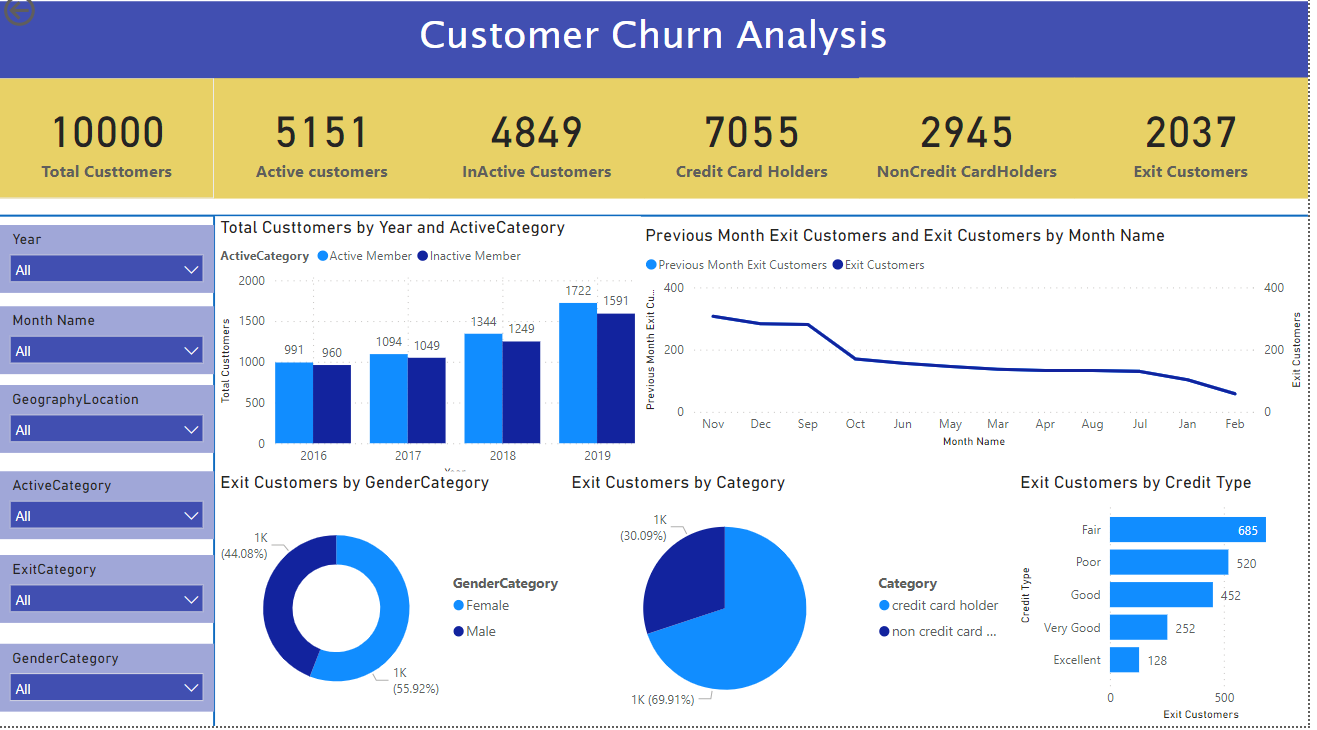

This screenshot's page, from the dashboard's own definition file:
{"tool":"powerbi","page":{"name":"Page 1","canvas":[1280,720],"ordinal":0},"visuals":[{"type":"card","fields":{"Values":["Calculations.Total Custtomers"]},"box":[0,85.6,210.3,118.6],"z":0},{"type":"card","fields":{"Values":["Calculations.Active customers"]},"box":[210.3,85.6,210.3,118.6],"z":1000},{"type":"card","fields":{"Values":["Calculations.InActive Customers"]},"box":[420.5,85.6,210.3,118.6],"z":2000},{"type":"card","fields":{"Values":["Calculations.Credit Card Holders"]},"box":[630.8,85.6,210.3,118.6],"z":3000},{"type":"textbox","box":[0,452,281,150],"z":4000},{"type":"textbox","box":[0,11,1280.6,75.4],"z":5000},{"type":"card","fields":{"Values":["Calculations.NonCredit CardHolders"]},"box":[841,85.6,210.3,118.6],"z":6000},{"type":"card","fields":{"Values":["Calculations.Exit Customers"]},"box":[1051.3,85.6,228.6,118.6],"z":7000},{"type":"shape","box":[0,145.5,1279.9,150.4],"z":8000},{"type":"shape","box":[0,221.3,420.5,498.7],"z":9000},{"type":"slicer","fields":{"Values":["Bank_Churn.Year"]},"box":[0,229.8,210.3,66],"z":10000},{"type":"slicer","fields":{"Values":["DateMaster.Month Name"]},"box":[0,309.3,210.3,66],"z":11000},{"type":"slicer","fields":{"Values":["Geography.GeographyLocation"]},"box":[0,386.3,210.3,66],"z":12000},{"type":"slicer","fields":{"Values":["ActiveCustomer.ActiveCategory"]},"box":[0,470.6,210.3,66],"z":13000},{"type":"slicer","fields":{"Values":["ExitCustomer.ExitCategory"]},"box":[0,552.5,210.3,66],"z":14000},{"type":"slicer","fields":{"Values":["Gender.GenderCategory"]},"box":[0,639.3,210.3,66],"z":15000},{"type":"clusteredColumnChart","fields":{"Category":["Bank_Churn.Year"],"Y":["Calculations.Total Custtomers"],"Series":["ActiveCustomer.ActiveCategory"]},"box":[211.5,221.3,415.6,261.8],"z":16000},{"type":"actionButton","box":[0,0,100,40],"z":17000},{"type":"lineChart","fields":{"Y":["Calculations.Previous Month Exit Customers"],"Y2":["Calculations.Exit Customers"],"Category":["Bank_Churn.Month Name"]},"box":[627.1,229.8,652.8,222.5],"z":18000},{"type":"donutChart","fields":{"Category":["Gender.GenderCategory"],"Y":["Calculations.Exit Customers"]},"box":[211.5,470.6,347.2,249.4],"z":19000},{"type":"barChart","fields":{"Category":["Bank_Churn.Credit Type"],"Y":["Calculations.Exit Customers"]},"box":[993.8,470.6,286,249.4],"z":20000},{"type":"pieChart","fields":{"Category":["CreditCard.Category"],"Y":["Calculations.Exit Customers"]},"box":[555,470.6,438.8,249.4],"z":21000}]}

Visuals, with their boxes in screenshot pixels (x1, y1, x2, y2), scaled from the page's 1280x720 canvas onto the 1317x730 screenshot:
card - Calculations.Total Custtomers: BBox(0, 87, 216, 207)
card - Calculations.Active customers: BBox(216, 87, 433, 207)
card - Calculations.InActive Customers: BBox(433, 87, 649, 207)
card - Calculations.Credit Card Holders: BBox(649, 87, 865, 207)
textbox: BBox(0, 458, 289, 610)
textbox: BBox(0, 11, 1316, 88)
card - Calculations.NonCredit CardHolders: BBox(865, 87, 1082, 207)
card - Calculations.Exit Customers: BBox(1082, 87, 1316, 207)
shape: BBox(0, 148, 1316, 300)
shape: BBox(0, 224, 433, 729)
slicer - Bank_Churn.Year: BBox(0, 233, 216, 300)
slicer - DateMaster.Month Name: BBox(0, 314, 216, 381)
slicer - Geography.GeographyLocation: BBox(0, 392, 216, 459)
slicer - ActiveCustomer.ActiveCategory: BBox(0, 477, 216, 544)
slicer - ExitCustomer.ExitCategory: BBox(0, 560, 216, 627)
slicer - Gender.GenderCategory: BBox(0, 648, 216, 715)
clusteredColumnChart - Bank_Churn.Year x Calculations.Total Custtomers: BBox(218, 224, 645, 490)
actionButton: BBox(0, 0, 103, 41)
lineChart - Calculations.Previous Month Exit Customers x Calculations.Exit Customers: BBox(645, 233, 1316, 459)
donutChart - Gender.GenderCategory x Calculations.Exit Customers: BBox(218, 477, 575, 729)
barChart - Bank_Churn.Credit Type x Calculations.Exit Customers: BBox(1023, 477, 1316, 729)
pieChart - CreditCard.Category x Calculations.Exit Customers: BBox(571, 477, 1023, 729)
